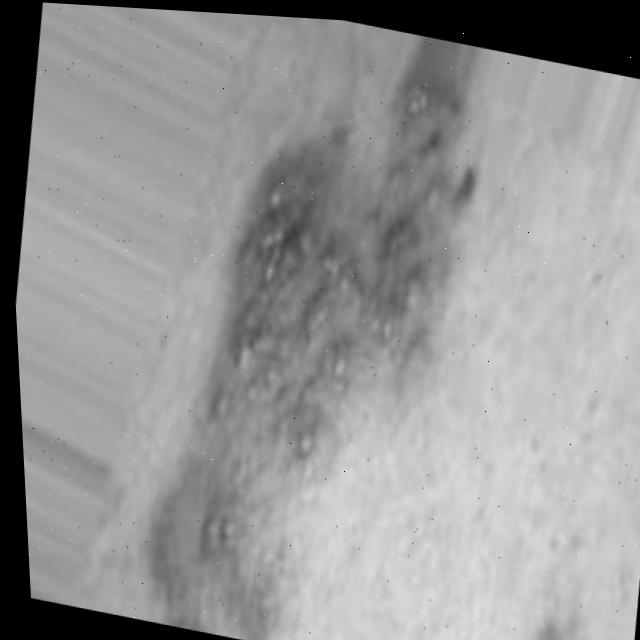Shingles: (92, 5, 531, 640), (508, 633, 600, 640)
